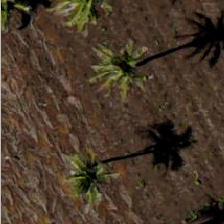Kelapa_Sawit: (80, 20, 170, 110), (43, 129, 133, 219), (0, 0, 52, 54)
